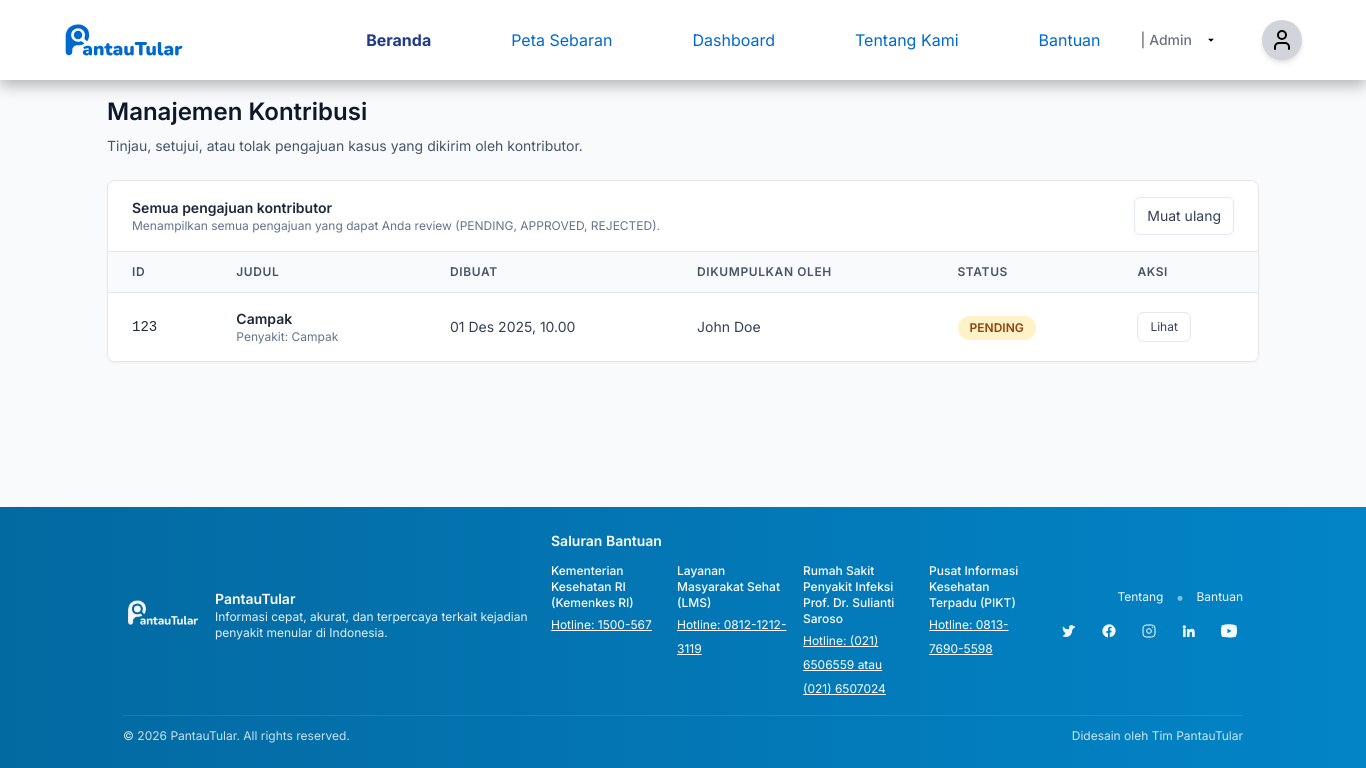
Test: ContributionManagementPage › opens & closes view modal (with full data)
Check: the text "123" is shown, box x1=108 y1=292 x2=212 y2=361
What coordinates should you click on to do the following:
click the button "Lihat"
I would click on:
 (1164, 327)
Its box is x1=1137 y1=312 x2=1191 y2=342.
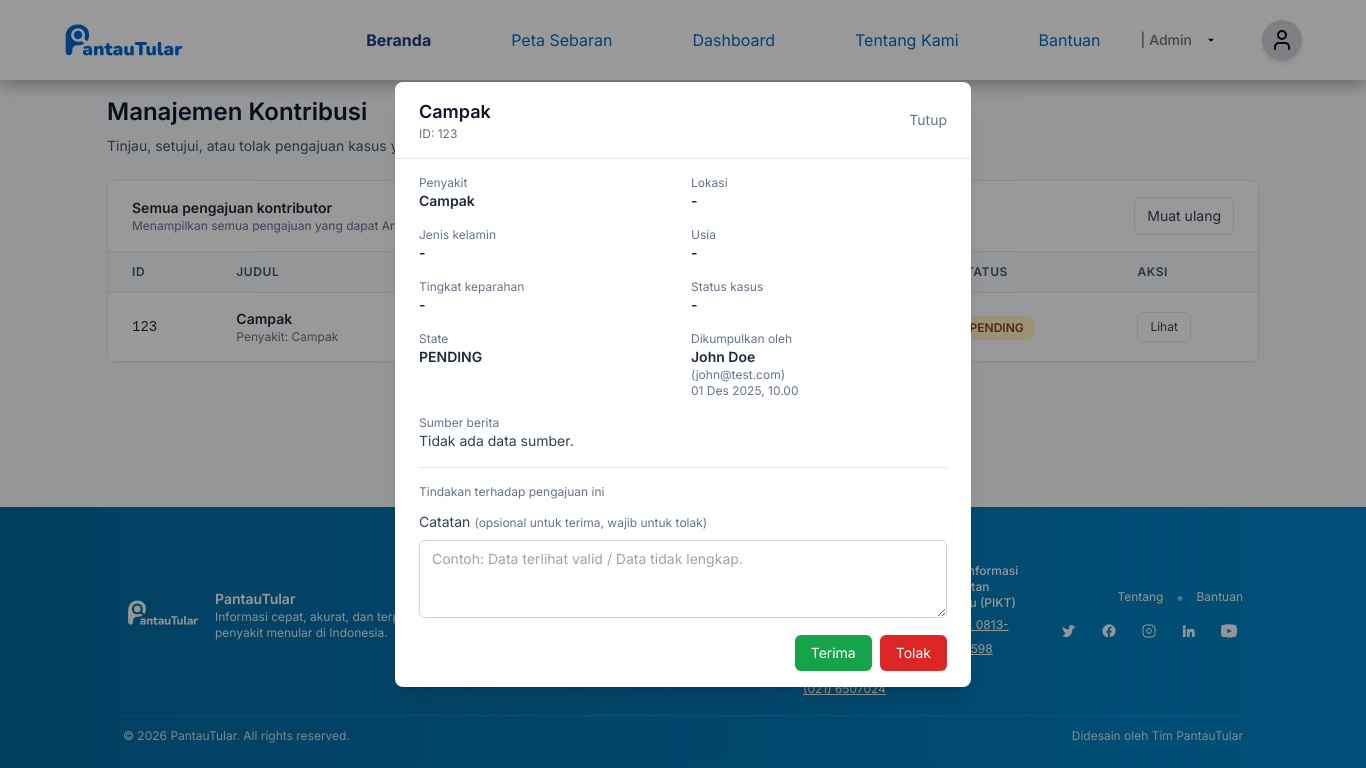
Check: the text "ID: 123" is shown, box x1=419 y1=126 x2=457 y2=140
What coordinates should you click on to do the following:
click the button "Tutup"
I would click on:
 (928, 120)
Its box is x1=909 y1=110 x2=947 y2=130.
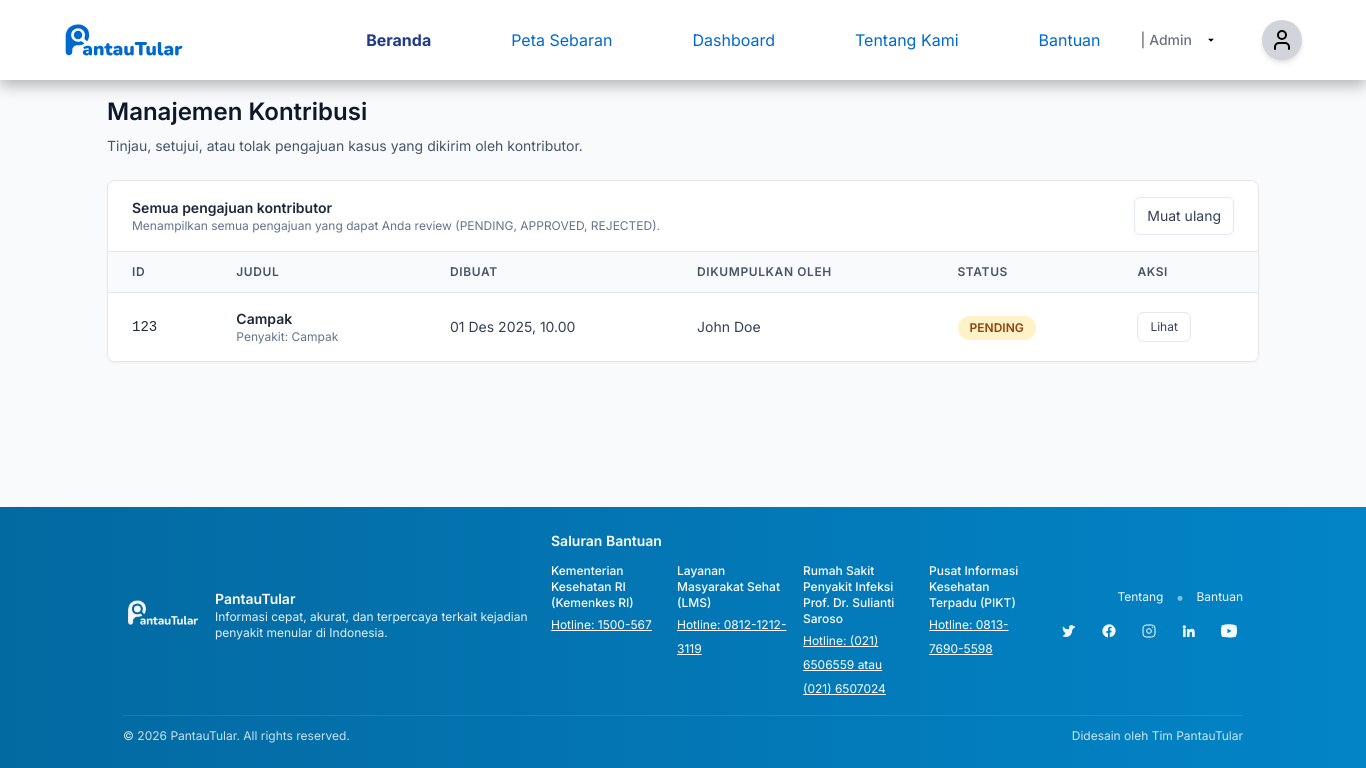
Check: the button "Tutup" is gone
